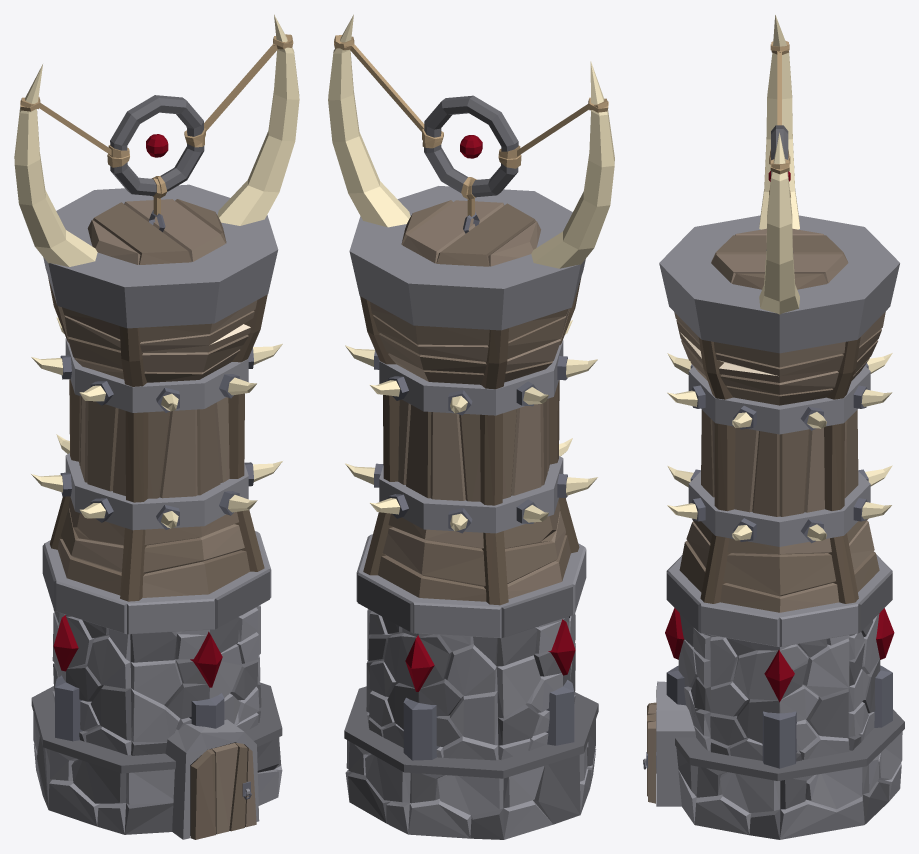
File: _Fire_tower_LVL_3.fbx
The picture shows the model from 3 angles, left to right: view 1: azimuth 30°, elevation 25°; view 2: azimuth 150°, elevation 25°; view 3: azimuth 270°, elevation 25°; orthographic projection. The views are drawn at different scales.
Visible parts, largest first — view 1: Fire_tower_LVL_3; view 2: Fire_tower_LVL_3; view 3: Fire_tower_LVL_3.
Boxes of the visible parts, x1=… form: Fire_tower_LVL_3: x1=14, y1=14, x2=299, y2=839; Fire_tower_LVL_3: x1=328, y1=14, x2=614, y2=839; Fire_tower_LVL_3: x1=643, y1=15, x2=904, y2=839.
Size of the model in its own units: 793 by 1999 by 658.
